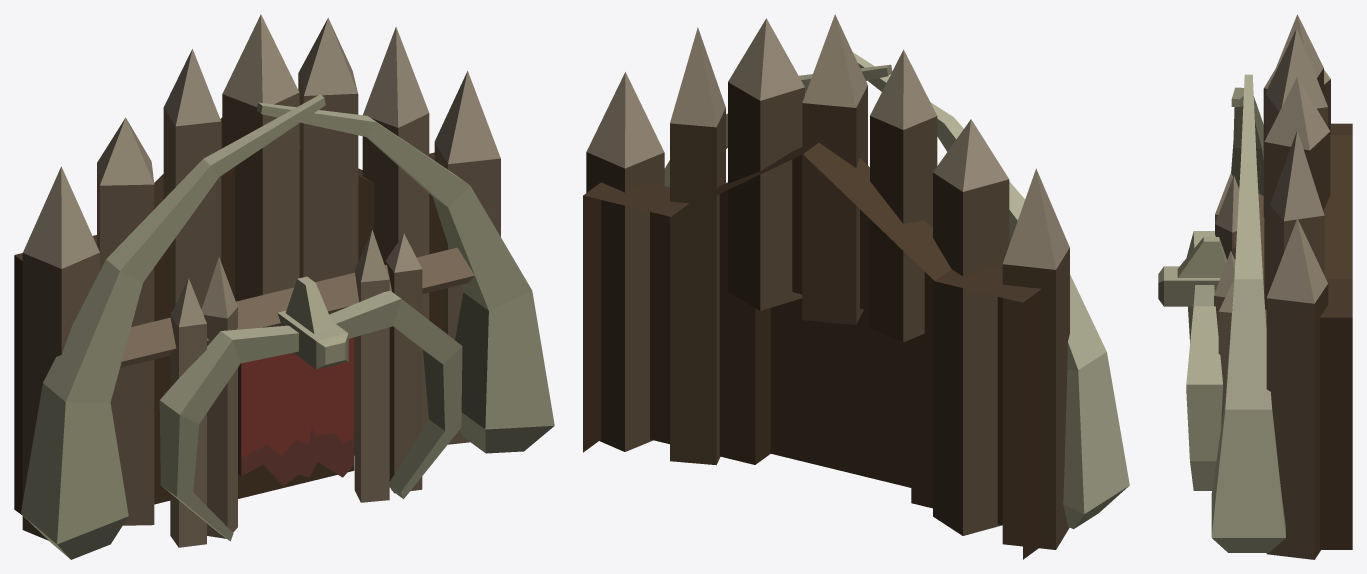
Rendered from SF_Bld_Goblin_Door_02.fbx.
The picture shows the model from 3 angles, left to right: view 1: azimuth 30°, elevation 25°; view 2: azimuth 150°, elevation 25°; view 3: azimuth 270°, elevation 25°; orthographic projection. The views are drawn at different scales.
Visible parts, largest first — view 1: SF_Bld_Goblin_Door_02; view 2: SF_Bld_Goblin_Door_02; view 3: SF_Bld_Goblin_Door_02.
Boxes of the visible parts, x1,y1,x2,y2 form: SF_Bld_Goblin_Door_02: [14, 14, 554, 559]; SF_Bld_Goblin_Door_02: [583, 14, 1129, 559]; SF_Bld_Goblin_Door_02: [1158, 14, 1352, 559].
Size of the model in its own units: 9.54 by 8.71 by 3.55.
